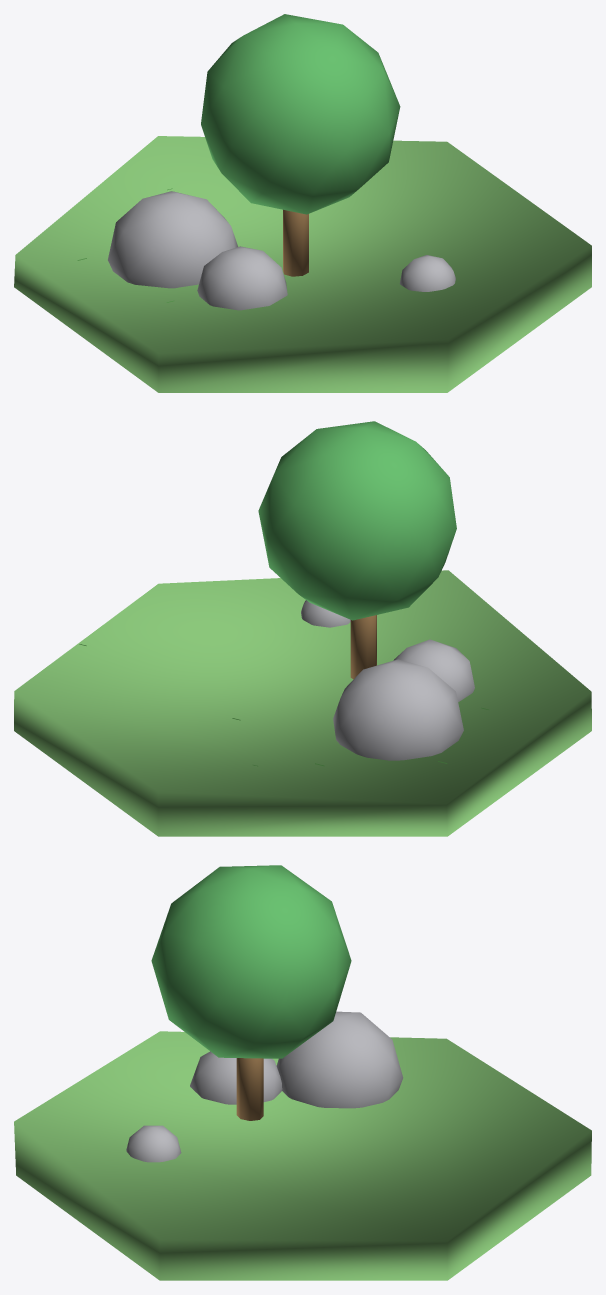
Rendered from grassland_v2.glb.
3 renders of one model, top to bottom at view 1: azimuth 30°, elevation 25°; view 2: azimuth 150°, elevation 25°; view 3: azimuth 270°, elevation 25°, orthographic.
Visible parts, largest first — view 1: grassland_tile_2.001, tree_crown_Icosphere.003, rock_Icosphere.017, rock_Icosphere.019, tree_trunk_Cylinder.003, rock_Icosphere.018; view 2: grassland_tile_2.001, tree_crown_Icosphere.003, rock_Icosphere.017, rock_Icosphere.019, tree_trunk_Cylinder.003, rock_Icosphere.018; view 3: grassland_tile_2.001, tree_crown_Icosphere.003, rock_Icosphere.017, rock_Icosphere.019, tree_trunk_Cylinder.003, rock_Icosphere.018.
Part boxes in pixels (x1=…): grassland_tile_2.001: x1=14, y1=136, x2=591, y2=392; tree_crown_Icosphere.003: x1=201, y1=14, x2=400, y2=214; rock_Icosphere.017: x1=108, y1=191, x2=237, y2=288; rock_Icosphere.019: x1=197, y1=246, x2=287, y2=310; tree_trunk_Cylinder.003: x1=283, y1=209, x2=308, y2=276; rock_Icosphere.018: x1=399, y1=255, x2=455, y2=291; grassland_tile_2.001: x1=14, y1=570, x2=591, y2=836; tree_crown_Icosphere.003: x1=258, y1=421, x2=456, y2=620; rock_Icosphere.017: x1=333, y1=659, x2=463, y2=760; rock_Icosphere.019: x1=393, y1=639, x2=474, y2=701; tree_trunk_Cylinder.003: x1=350, y1=615, x2=376, y2=679; rock_Icosphere.018: x1=301, y1=600, x2=350, y2=627; grassland_tile_2.001: x1=14, y1=1031, x2=591, y2=1280; tree_crown_Icosphere.003: x1=151, y1=865, x2=351, y2=1058; rock_Icosphere.017: x1=276, y1=1011, x2=403, y2=1108; rock_Icosphere.019: x1=190, y1=1051, x2=282, y2=1104; tree_trunk_Cylinder.003: x1=236, y1=1058, x2=263, y2=1120; rock_Icosphere.018: x1=126, y1=1125, x2=181, y2=1162.
Size of the model in its own units: 0.8835 by 0.584 by 1.03.
